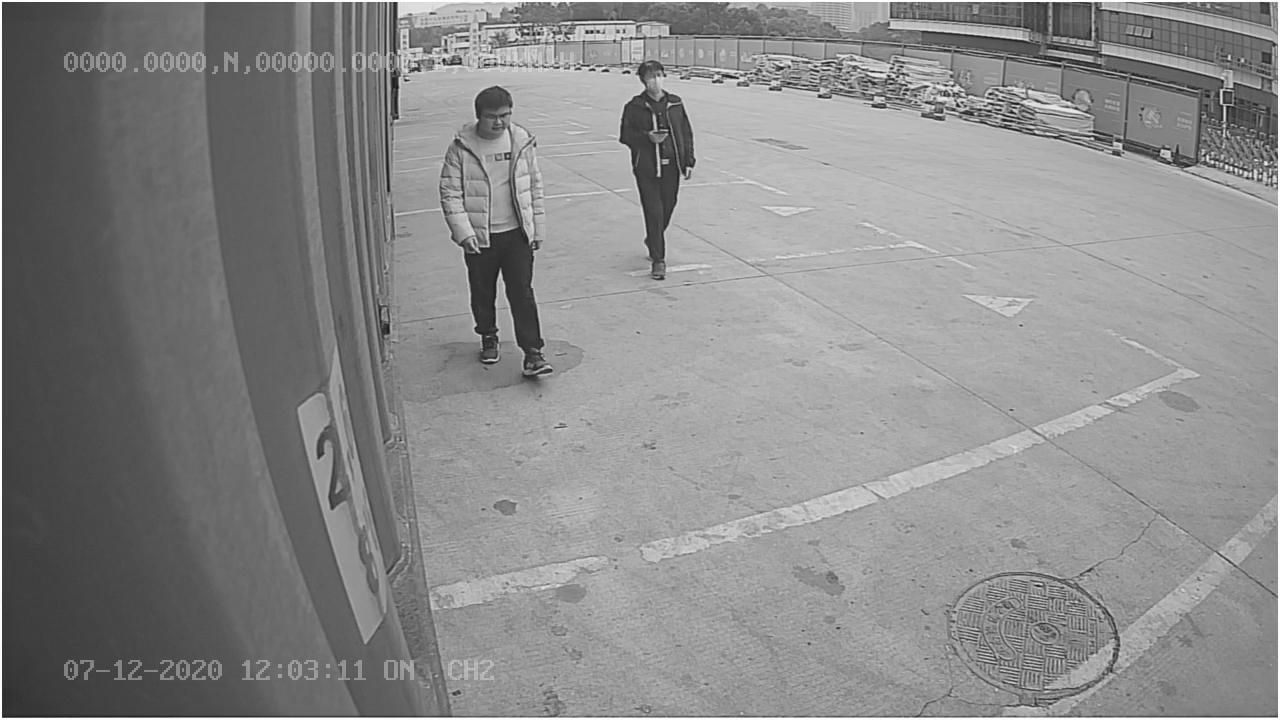person: (436, 86, 552, 381)
